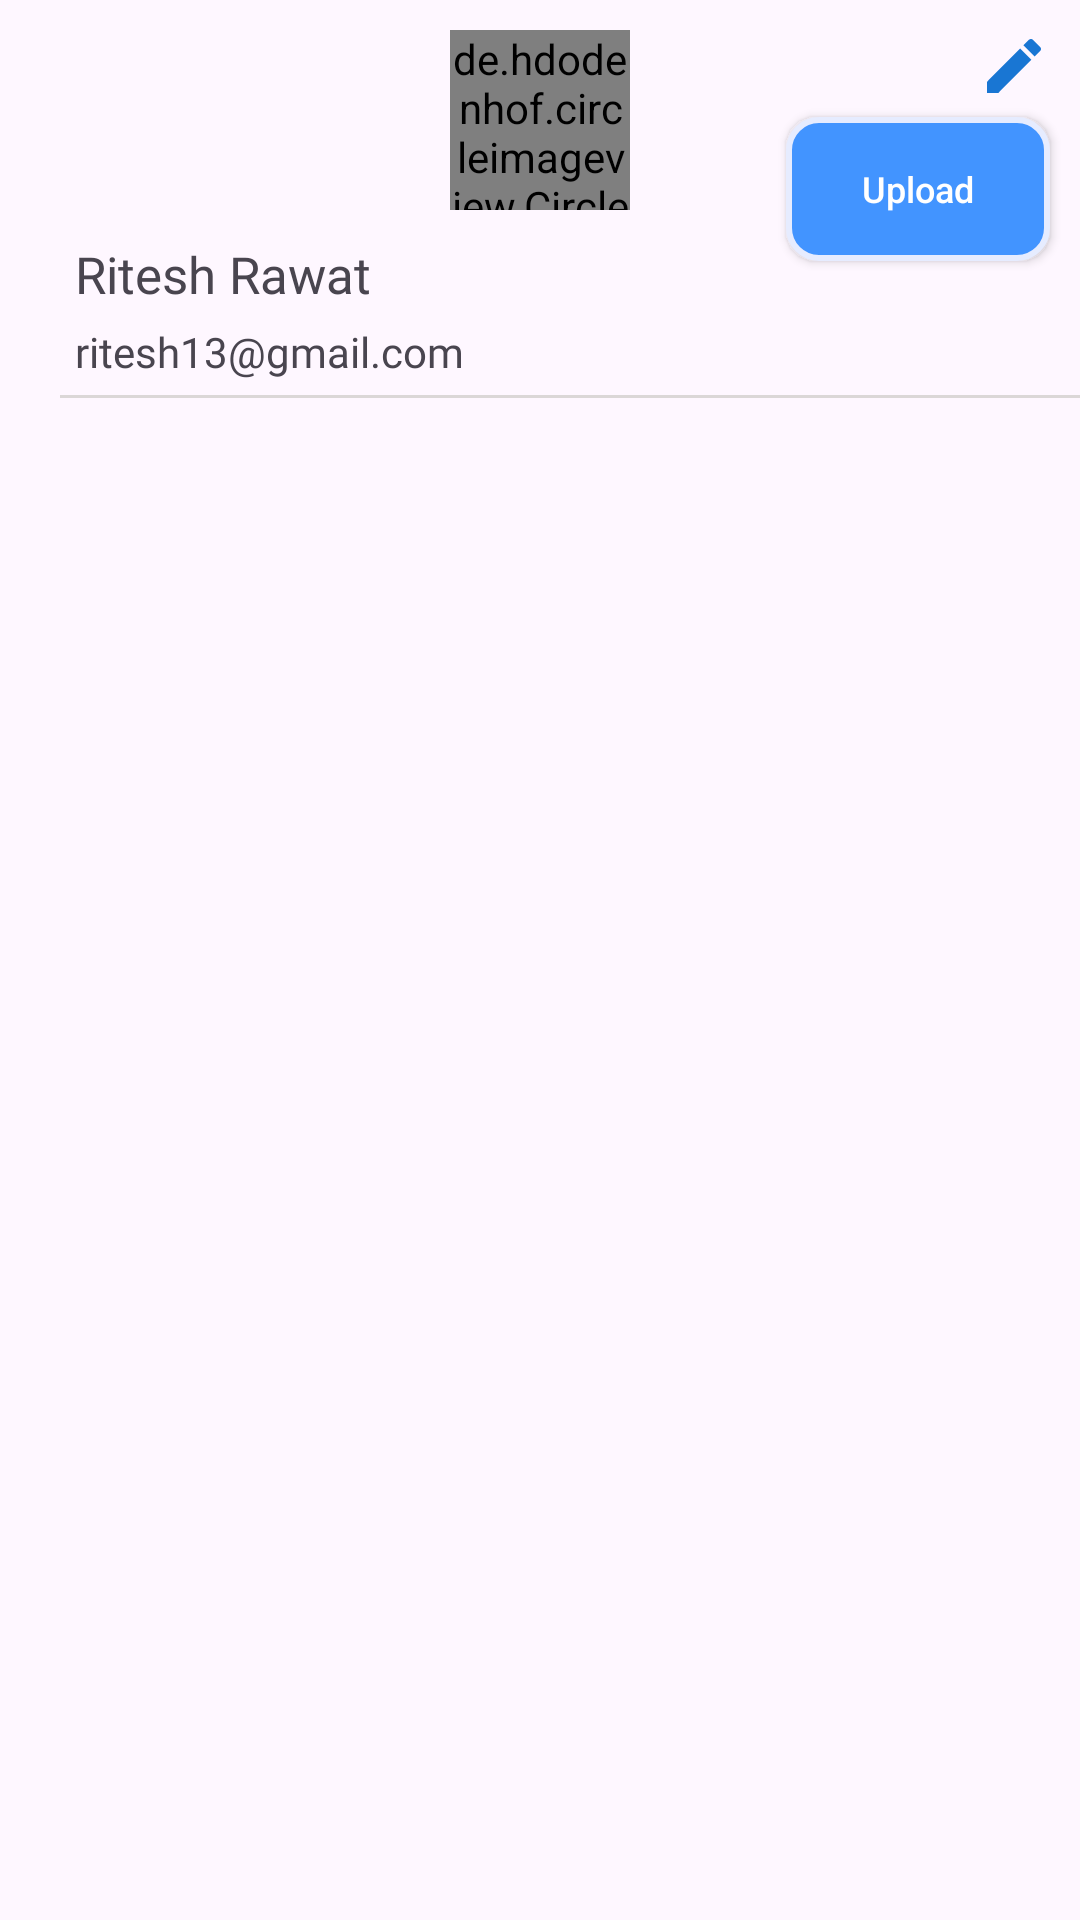

Icon click points for this 1080px x 1920px phone screenshot, format [x,y]:
edit: [1014,66]
